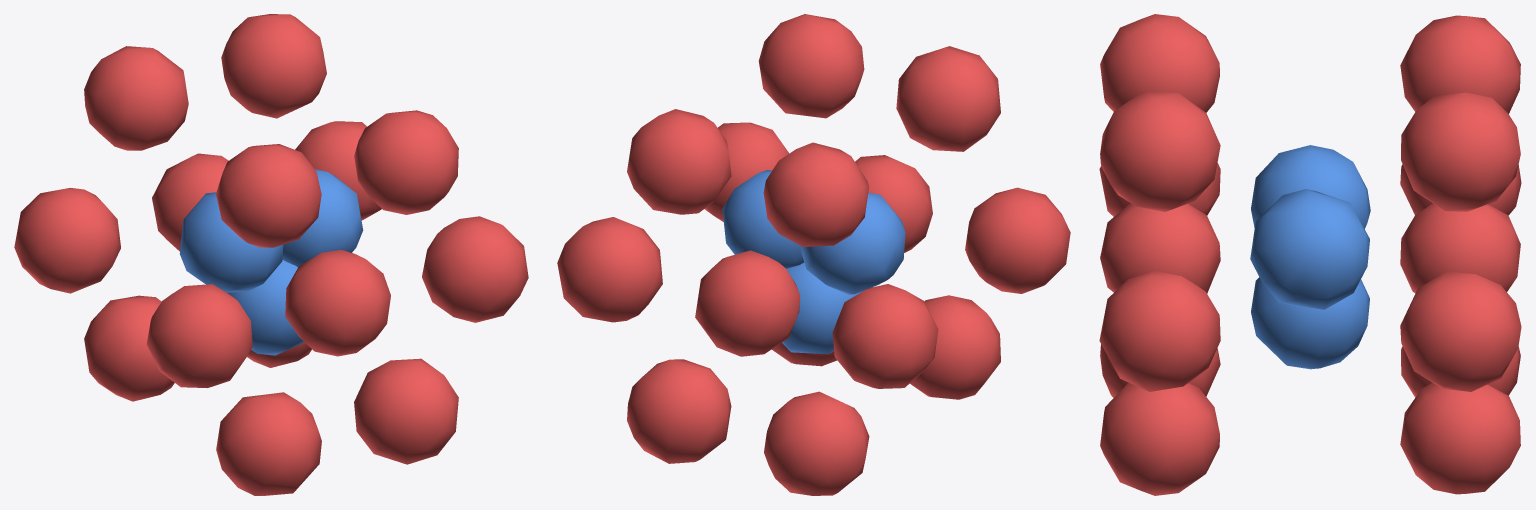
The model's file is hcp_atom.glb.
The picture shows the model from 3 angles, left to right: view 1: azimuth 30°, elevation 25°; view 2: azimuth 150°, elevation 25°; view 3: azimuth 270°, elevation 25°; orthographic projection. The views are drawn at different scales.
Parts seen in each view (by area): view 1: atom_12, atom_5, atom_9, atom_0, atom_4, atom_1, atom_8, atom_7, atom_2, atom_3, atom_10, atom_15 (+5 smaller); view 2: atom_2, atom_1, atom_6, atom_3, atom_9, atom_11, atom_10, atom_7, atom_8, atom_13, atom_4, atom_15 (+5 smaller); view 3: atom_7, atom_6, atom_0, atom_1, atom_14, atom_5, atom_11, atom_2, atom_8, atom_12, atom_13, atom_16 (+5 smaller).
Boxes of the visible parts, box(x1,y1,x2,y2) form: atom_12: box(285, 250, 390, 356); atom_5: box(354, 358, 458, 464); atom_9: box(14, 188, 120, 293); atom_0: box(422, 216, 528, 322); atom_4: box(216, 392, 321, 495); atom_1: box(354, 110, 458, 214); atom_8: box(84, 46, 188, 150); atom_7: box(221, 14, 326, 118); atom_2: box(216, 144, 321, 247); atom_3: box(146, 284, 252, 387); atom_10: box(84, 295, 174, 401); atom_15: box(179, 192, 283, 292); atom_2: box(896, 46, 1000, 151); atom_1: box(758, 14, 864, 118); atom_6: box(557, 217, 662, 322); atom_3: box(965, 187, 1070, 293); atom_9: box(832, 284, 938, 388); atom_11: box(627, 359, 731, 463); atom_10: box(764, 391, 869, 495); atom_7: box(627, 109, 731, 214); atom_8: box(763, 142, 869, 246); atom_13: box(695, 250, 800, 356); atom_4: box(910, 295, 1000, 399); atom_15: box(801, 192, 905, 294); atom_7: box(1401, 92, 1520, 211); atom_6: box(1400, 271, 1521, 391); atom_0: box(1099, 270, 1220, 391); atom_1: box(1100, 91, 1220, 211); atom_14: box(1250, 189, 1369, 309); atom_5: box(1100, 383, 1219, 495); atom_11: box(1400, 382, 1520, 494); atom_2: box(1100, 14, 1219, 112); atom_8: box(1400, 15, 1520, 113); atom_12: box(1100, 203, 1220, 293); atom_13: box(1400, 203, 1520, 293); atom_16: box(1251, 277, 1369, 369).
Size of the model in its own units: 15.96 by 14.44 by 14.
